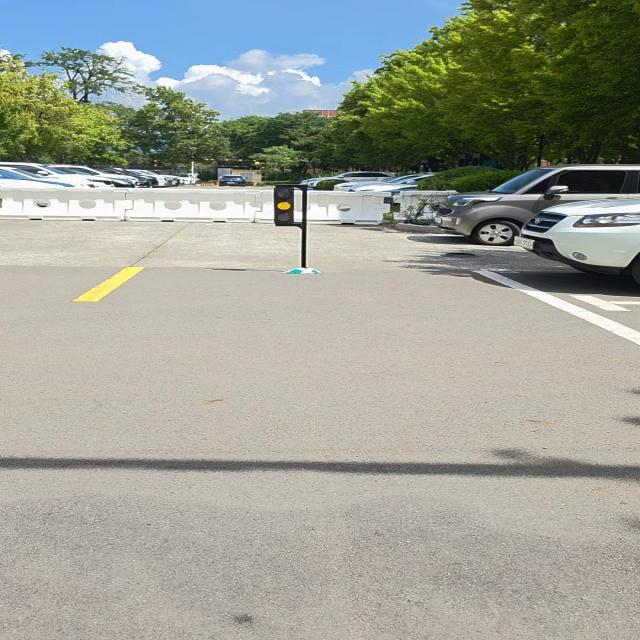yellow: (272, 187, 296, 226)
